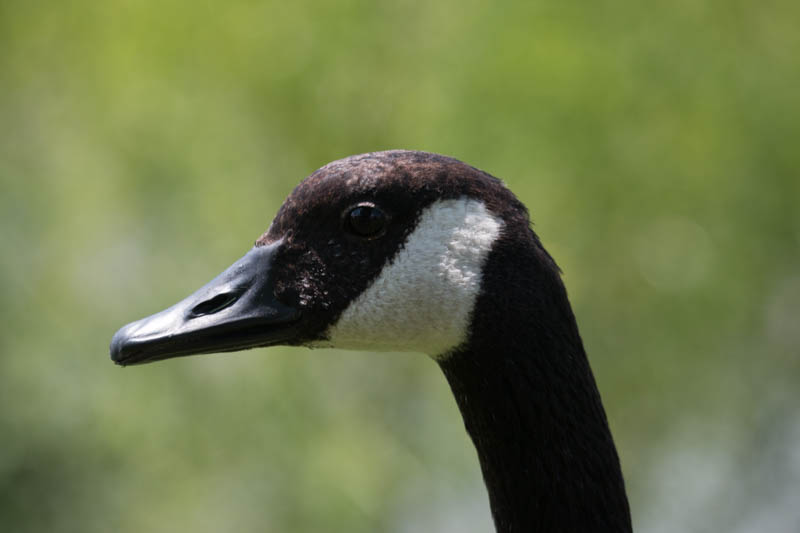goose-head: (109, 149, 555, 367)
